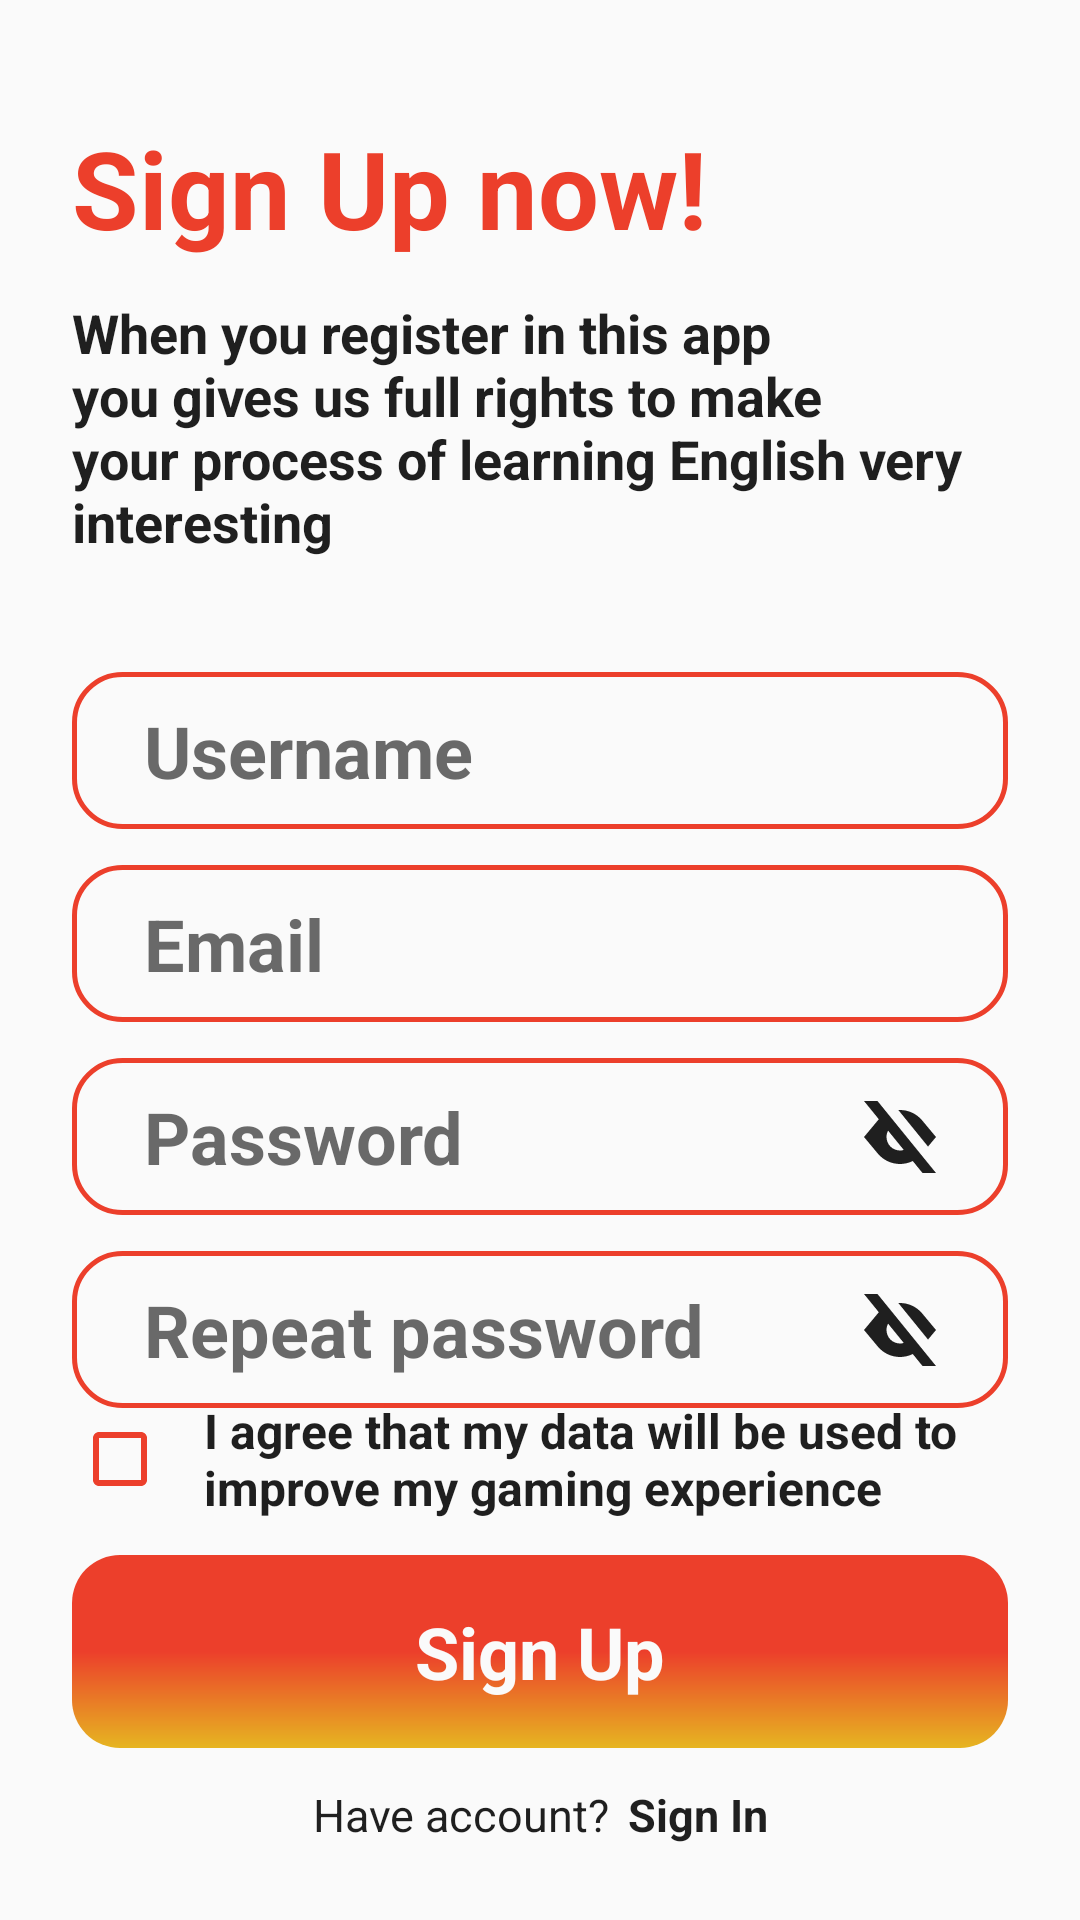

Named icons in this screenshot (1080px x 1920px) and their centers, [x,y]:
eye close: [900,1137], [900,1330]
